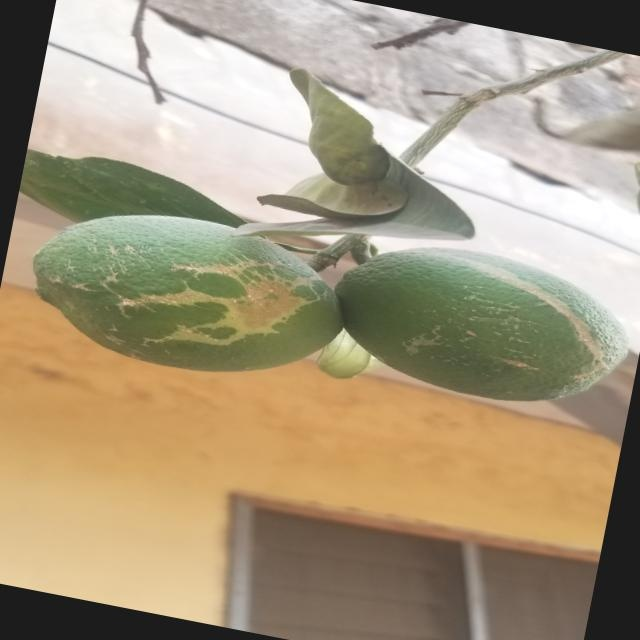agrume: (36, 200, 346, 400), (317, 224, 627, 419)
